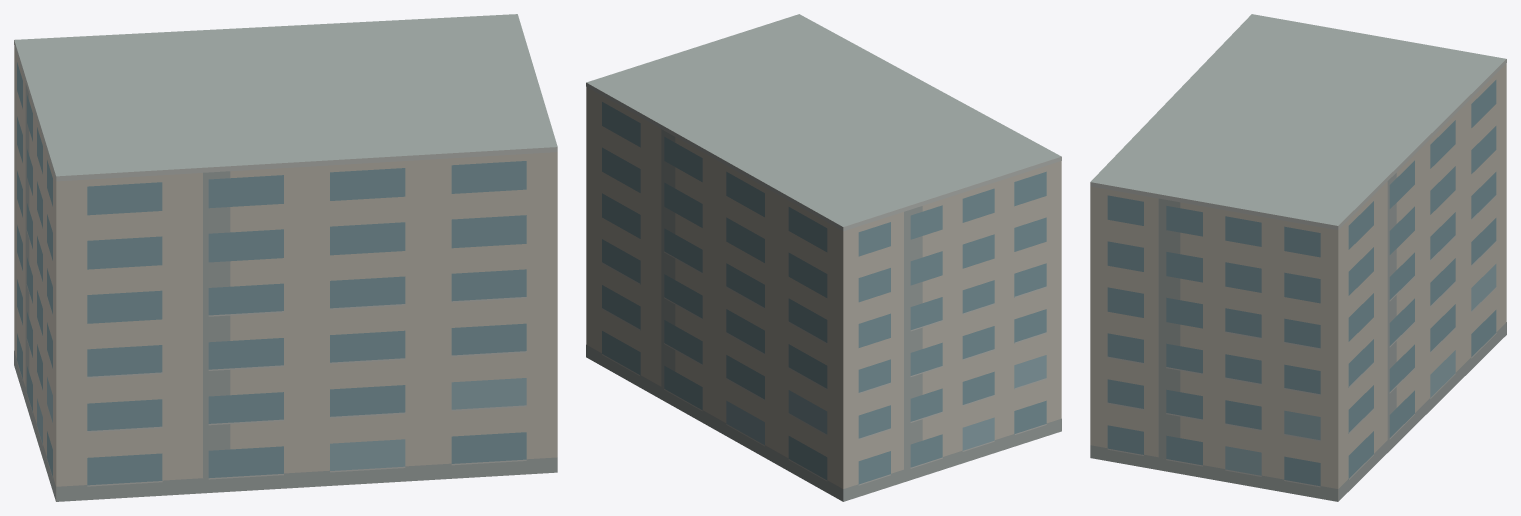
The model's file is survey-upis-32903834.glb.
3 views of the same model, side by side, from view 1: azimuth 30°, elevation 25°; view 2: azimuth 150°, elevation 25°; view 3: azimuth 270°, elevation 25° (orthographic). The views are drawn at different scales.
Visible parts, largest first — view 1: survey-upis-32903834.tmp; view 2: survey-upis-32903834.tmp; view 3: survey-upis-32903834.tmp.
Part boxes in pixels (x1,y1,x2,y2): survey-upis-32903834.tmp: [14, 14, 557, 501]; survey-upis-32903834.tmp: [586, 14, 1061, 501]; survey-upis-32903834.tmp: [1090, 14, 1506, 501].
Bounding box in the file's own units: 25.88 × 15.7 × 21.49.
